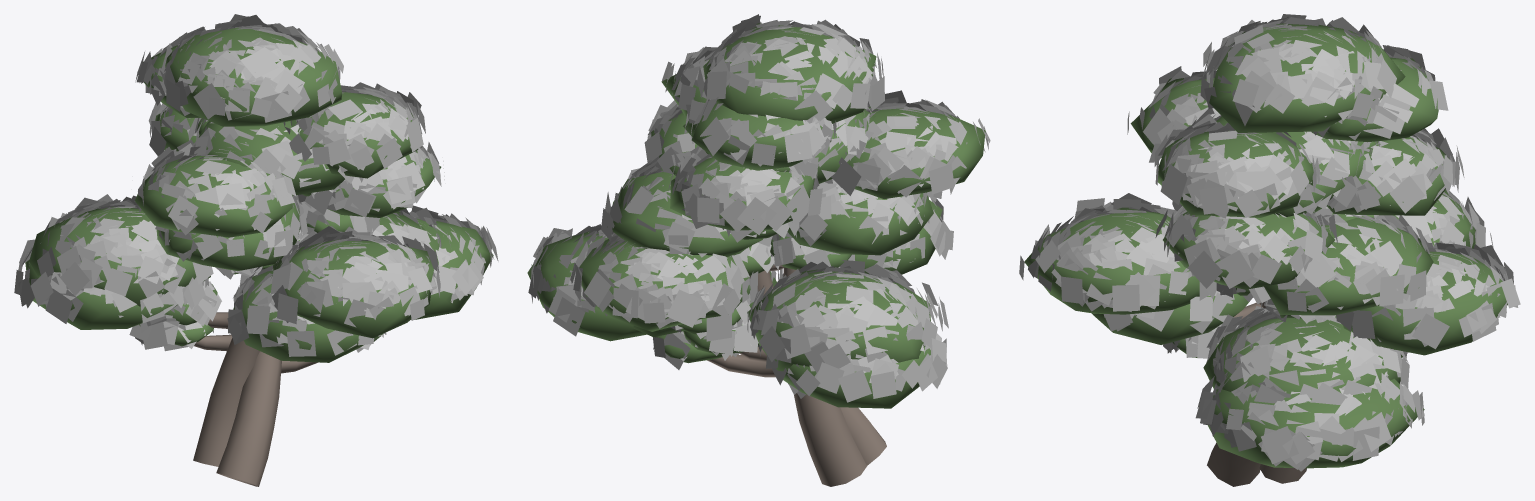
File: pine.glb
The picture shows the model from 3 angles, left to right: view 1: azimuth 30°, elevation 25°; view 2: azimuth 150°, elevation 25°; view 3: azimuth 270°, elevation 25°; orthographic projection. The views are drawn at different scales.
Parts seen in each view (by area): view 1: PineA_needles, PineA, PineB_needles, PineB; view 2: PineA_needles, PineB_needles, PineA, PineB; view 3: PineA_needles, PineB_needles, PineA, PineB.
Part boxes in pixels (x1,y1,x2,y2): PineA_needles: [37, 14, 451, 327]; PineA: [29, 27, 439, 466]; PineB_needles: [14, 103, 498, 356]; PineB: [25, 110, 493, 486]; PineA_needles: [571, 14, 990, 372]; PineB_needles: [528, 100, 953, 402]; PineA: [603, 23, 985, 486]; PineB: [527, 109, 942, 465]; PineA_needles: [1019, 14, 1485, 405]; PineB_needles: [1103, 108, 1520, 471]; PineA: [1024, 23, 1475, 483]; PineB: [1092, 116, 1507, 486].
Bounding box in the file's own units: 5.16 × 4.92 × 4.8.
